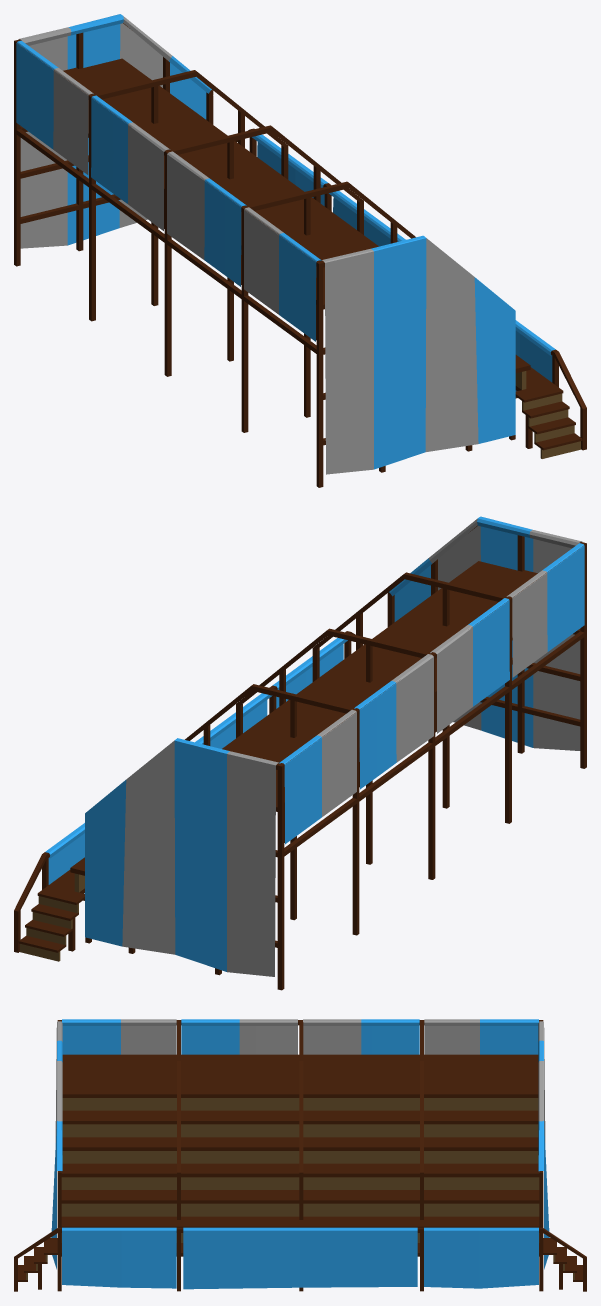
Rendered from Platform_blue_white.obj.
The picture shows the model from 3 angles, top to bottom: view 1: azimuth 30°, elevation 25°; view 2: azimuth 150°, elevation 25°; view 3: azimuth 270°, elevation 25°; orthographic projection. The views are drawn at different scales.
Parts seen in each view (by area): view 1: Platform_01; view 2: Platform_01; view 3: Platform_01.
Boxes of the visible parts, x1,y1,x2,y2 form: Platform_01: (14,14,586,487); Platform_01: (14,516,586,990); Platform_01: (14,1019,586,1291).
Bounding box in the file's own units: 5.63 × 4.96 × 14.4.
